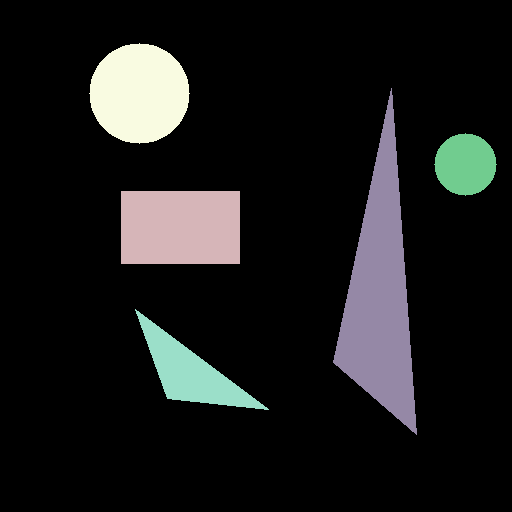circle: (89, 43, 189, 143), (434, 133, 496, 195)
rectangle: (121, 191, 239, 263)
triangle: (333, 88, 416, 434), (135, 309, 268, 409)
